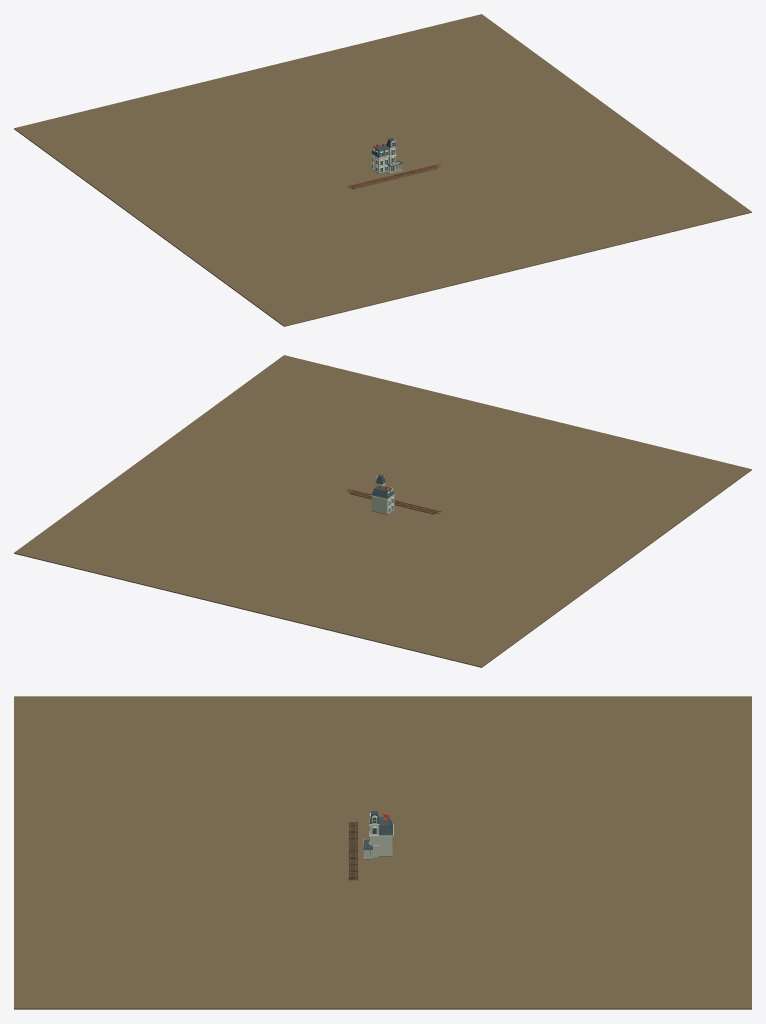
File: railroad-base-gpt-6-astra.glb
3 views of the same model, one above another, from view 1: azimuth 30°, elevation 25°; view 2: azimuth 150°, elevation 25°; view 3: azimuth 270°, elevation 25° (orthographic). The views are drawn at different scales.
Parts seen in each view (by area): view 1: object 7; view 2: object 7; view 3: object 7, object 1.
Part boxes in pixels (x1=…): object 7: x1=14, y1=14, x2=751, y2=326; object 7: x1=14, y1=355, x2=751, y2=667; object 7: x1=14, y1=696, x2=751, y2=1009; object 1: x1=363, y1=825, x2=392, y2=859.
Size of the model in its own units: 200 by 13.38 by 200.
